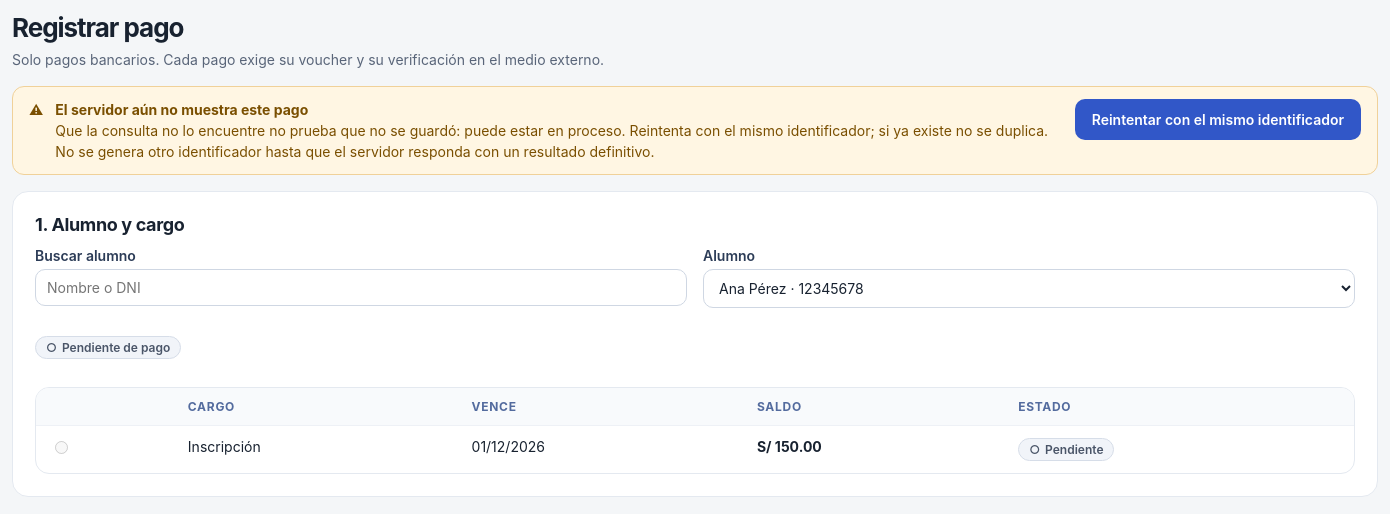
Test: recuperación de pago tras perder conexión y recargar › si el servidor no tiene el pago, el reintento reutiliza el mismo p_payment_id
The image size is (1390, 514).
Click the button "Reintentar con el mismo identificador".
click(1218, 120)  # box top-left (1075, 99), bottom-right (1361, 140)
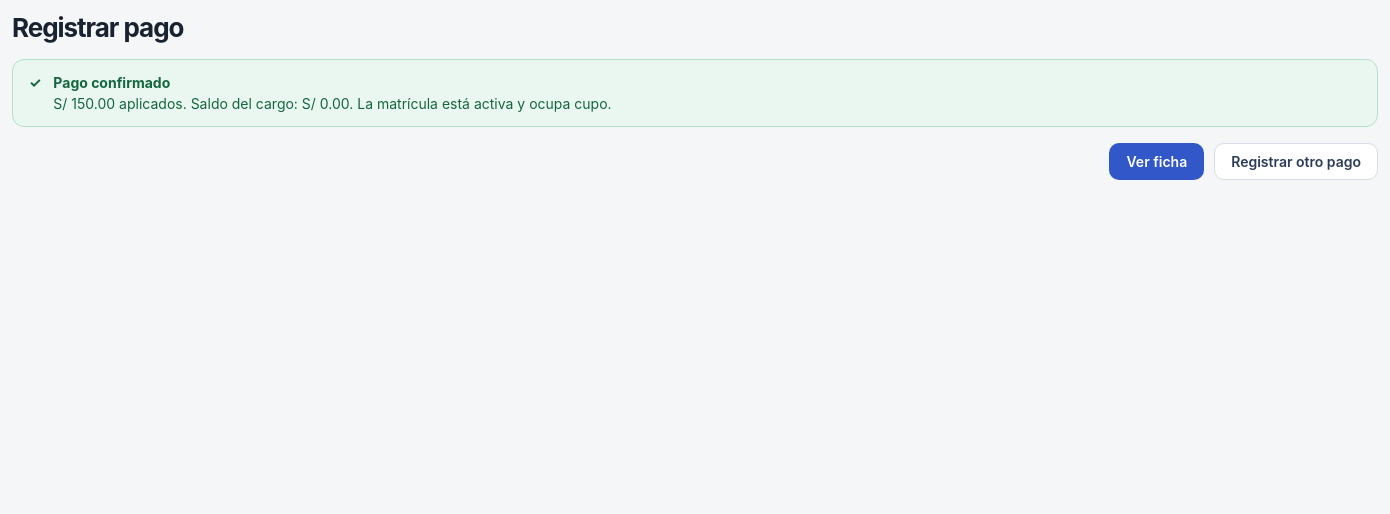
Check: the text "Pago confirmado" is shown, box top-left (53, 74), bottom-right (170, 91)
